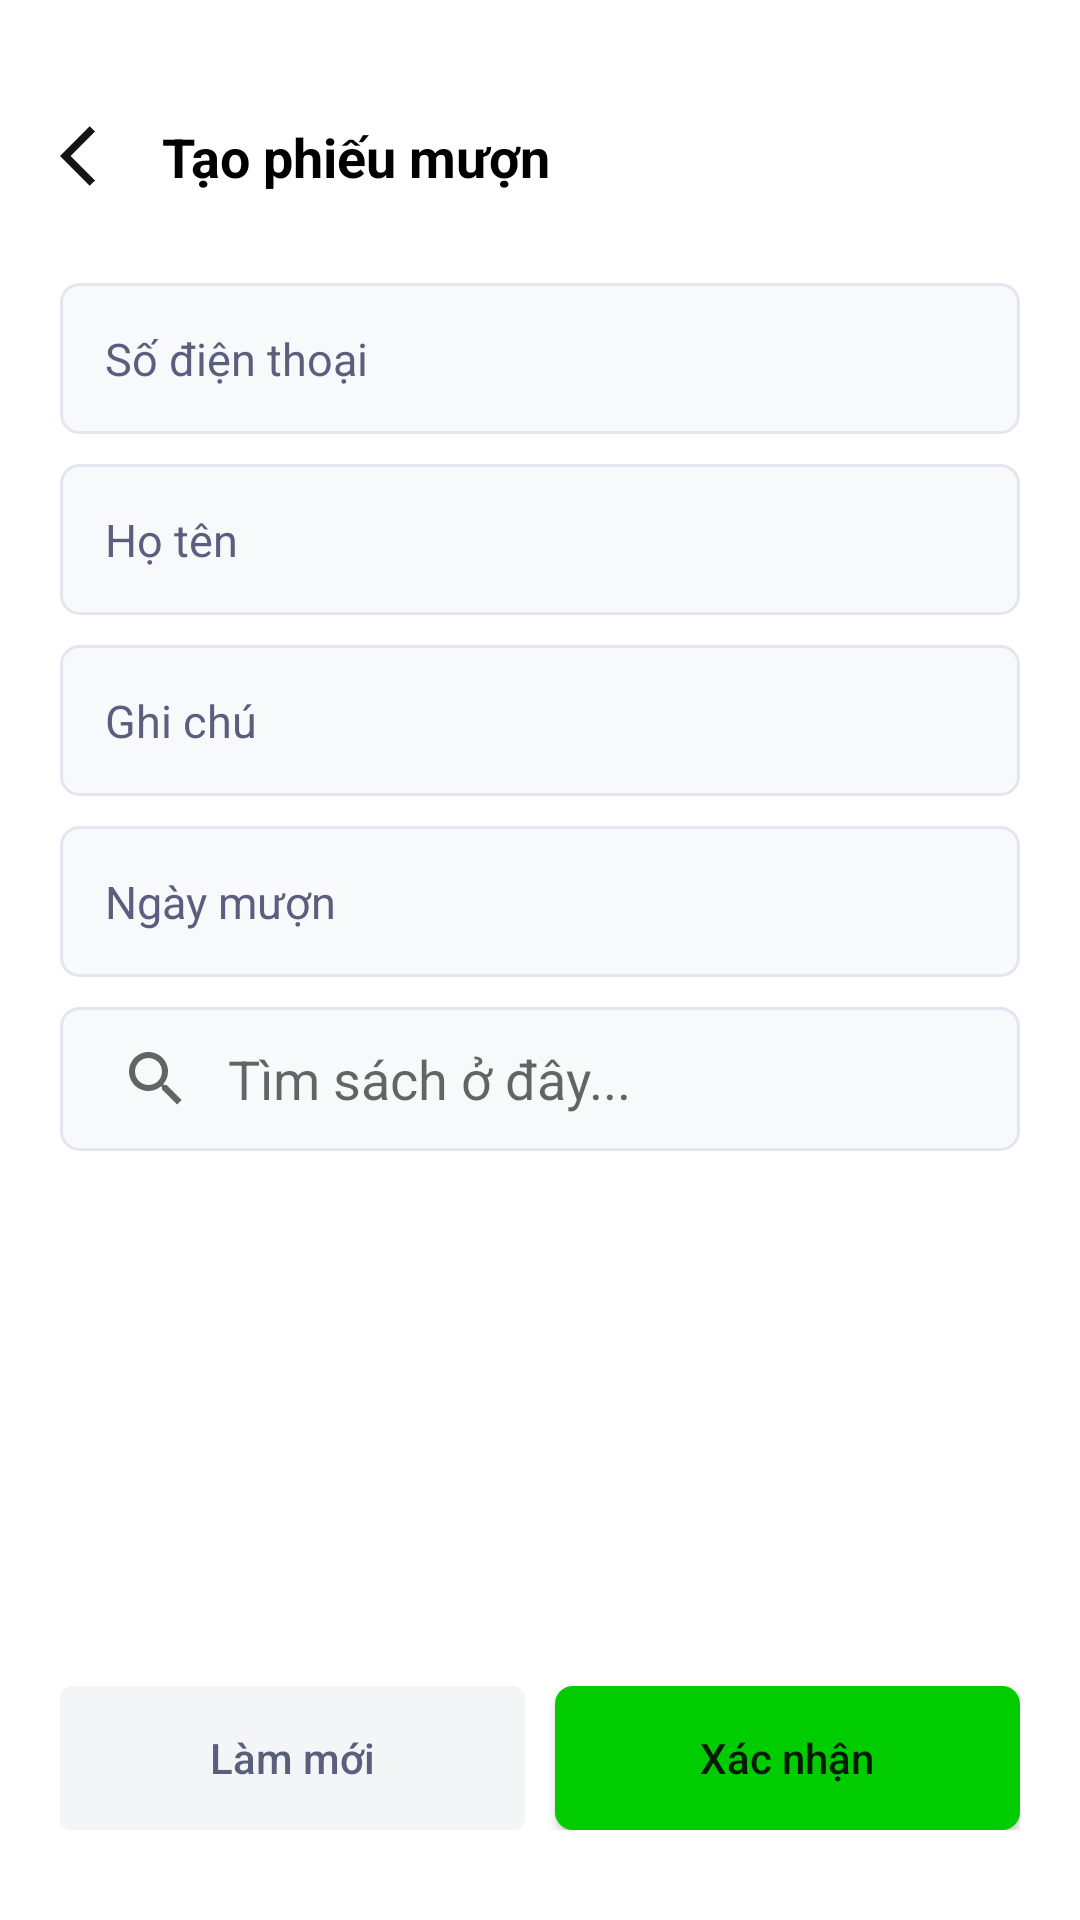

Screen size 1080×1920. Icon name, then its box in pixels as (x1, y1, x2, y2):
back: (60, 126, 95, 186)
